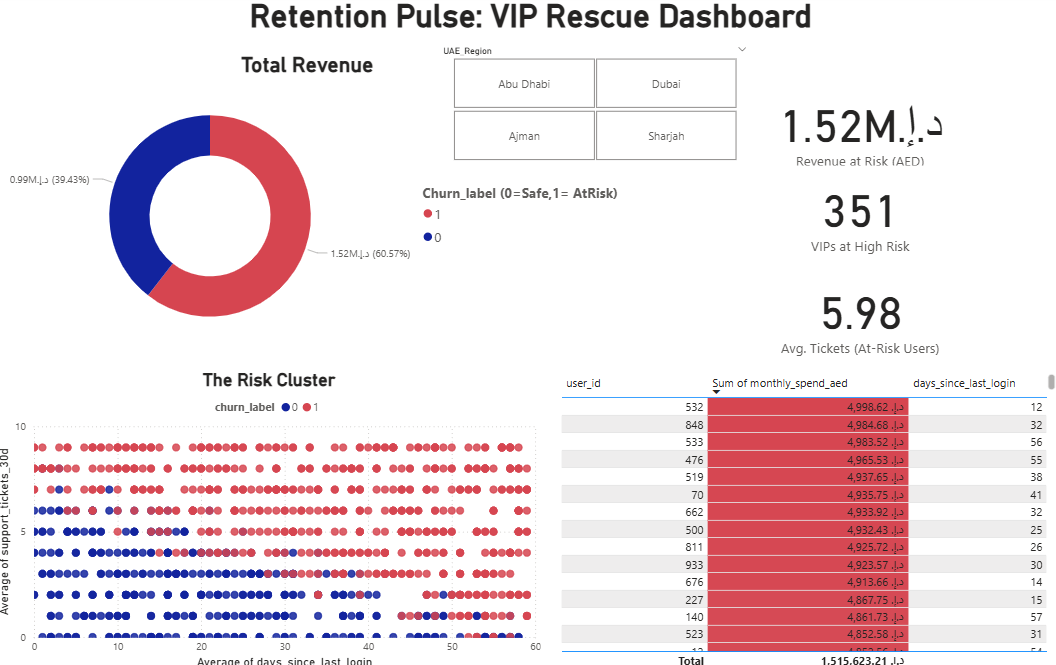

Layout of this report page (visuals, bound fields, positions):
{"tool":"powerbi","page":{"name":"Page 1","canvas":[1280,815],"ordinal":0},"visuals":[{"type":"donutChart","title":"Total Revenue","fields":{"Y":["Sum(user_pulse_data.monthly_spend_aed)"],"Category":["user_pulse_data.churn_label"]},"box":[0,72,754.4,361.9],"z":0},{"type":"scatterChart","title":"The Risk Cluster","fields":{"X":["Avg(user_pulse_data.days_since_last_login)"],"Y":["Avg(user_pulse_data.support_tickets_30d)"],"Series":["user_pulse_data.churn_label"],"Category":["user_pulse_data.user_id"]},"box":[0,451.9,662.6,363.7],"z":1000},{"type":"card","fields":{"Values":["Sum(user_pulse_data.monthly_spend_aed)"]},"box":[817.4,104.4,446.5,117],"z":2000},{"type":"card","fields":{"Values":["Count(user_pulse_data.user_id)"]},"box":[817.4,207.1,446.5,115.2],"z":3000},{"type":"card","fields":{"Values":["Avg(user_pulse_data.support_tickets_30d)"]},"box":[817.4,322.3,446.5,129.6],"z":4000},{"type":"tableEx","fields":{"Values":["user_pulse_data.user_id","Sum(user_pulse_data.monthly_spend_aed)","user_pulse_data.days_since_last_login","user_pulse_data.Next Best Action"]},"box":[677,451.9,603.2,363.7],"z":5000},{"type":"textbox","box":[172.8,0,945.3,55.8],"z":7000},{"type":"slicer","fields":{"Values":["user_pulse_data.uae_region"]},"box":[527.5,57.6,388.9,149.4],"z":7001}]}

Visuals, with their boxes in screenshot pixels (x1, y1, x2, y2), scaled from the page's 1280x815 canvas onto the 1056x665 screenshot:
"Total Revenue" donutChart: detection(0, 59, 622, 354)
"The Risk Cluster" scatterChart: detection(0, 369, 547, 664)
card - Sum(user_pulse_data.monthly_spend_aed): detection(674, 85, 1043, 181)
card - Count(user_pulse_data.user_id): detection(674, 169, 1043, 263)
card - Avg(user_pulse_data.support_tickets_30d): detection(674, 263, 1043, 369)
tableEx - user_pulse_data.user_id x Sum(user_pulse_data.monthly_spend_aed): detection(559, 369, 1055, 664)
textbox: detection(143, 0, 922, 46)
slicer - user_pulse_data.uae_region: detection(435, 47, 756, 169)
